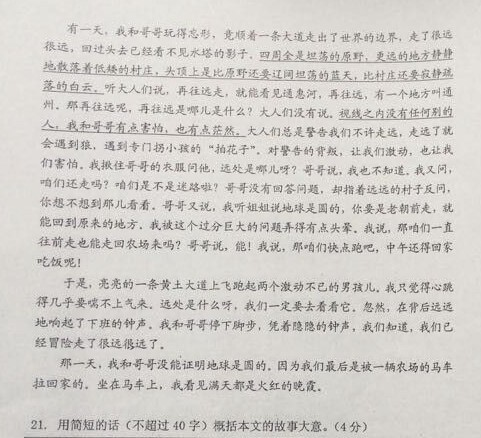text: (42, 96, 458, 120), (39, 196, 454, 219), (38, 136, 456, 158), (43, 117, 457, 139), (37, 235, 456, 256), (40, 79, 456, 100), (34, 295, 455, 315), (43, 41, 454, 61), (64, 21, 458, 41), (62, 276, 455, 296), (41, 176, 452, 195), (33, 317, 456, 335), (37, 216, 456, 234), (42, 59, 457, 77), (60, 357, 455, 375), (40, 159, 455, 175), (31, 377, 325, 397), (27, 418, 371, 434), (32, 336, 168, 353), (34, 254, 87, 271)
